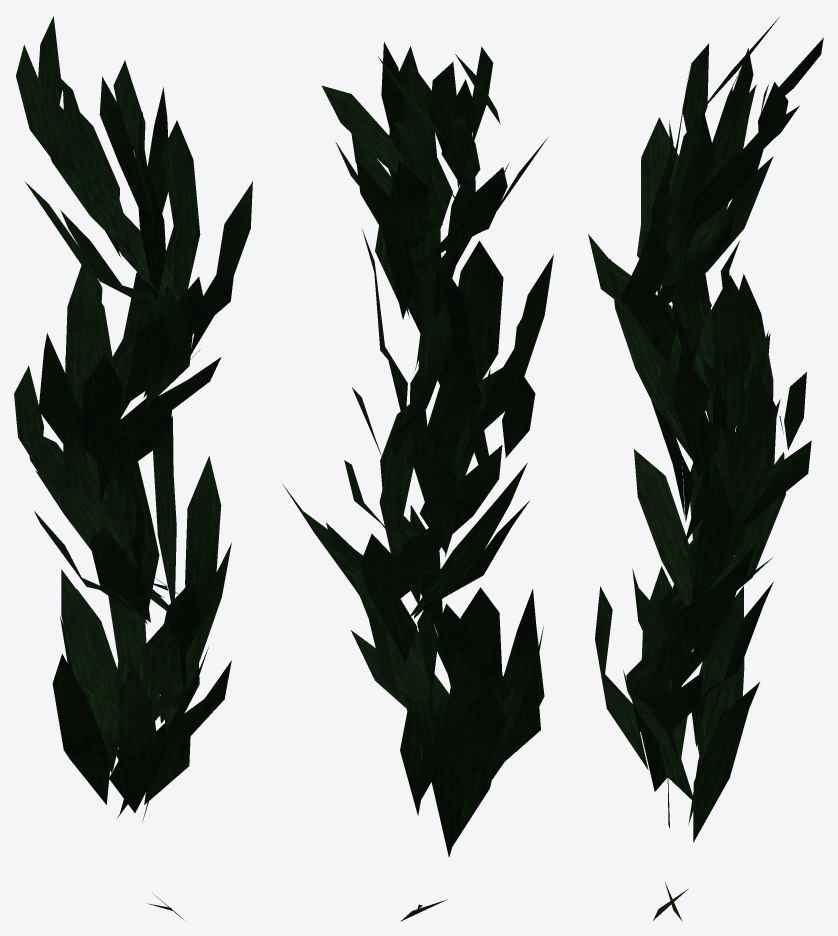
The model's file is seaweed.glb.
The picture shows the model from 3 angles, left to right: view 1: azimuth 30°, elevation 25°; view 2: azimuth 150°, elevation 25°; view 3: azimuth 270°, elevation 25°; orthographic projection. The views are drawn at different scales.
Parts seen in each view (by area): view 1: TallSeaweed; view 2: TallSeaweed; view 3: TallSeaweed.
Boxes of the visible parts, x1,y1,x2,y2 form: TallSeaweed: [14, 16, 252, 919]; TallSeaweed: [282, 42, 553, 921]; TallSeaweed: [588, 17, 823, 920].
Bounding box in the file's own units: 0.4848 × 1.96 × 0.4998.
Materials: 1 (1 with a texture image).
